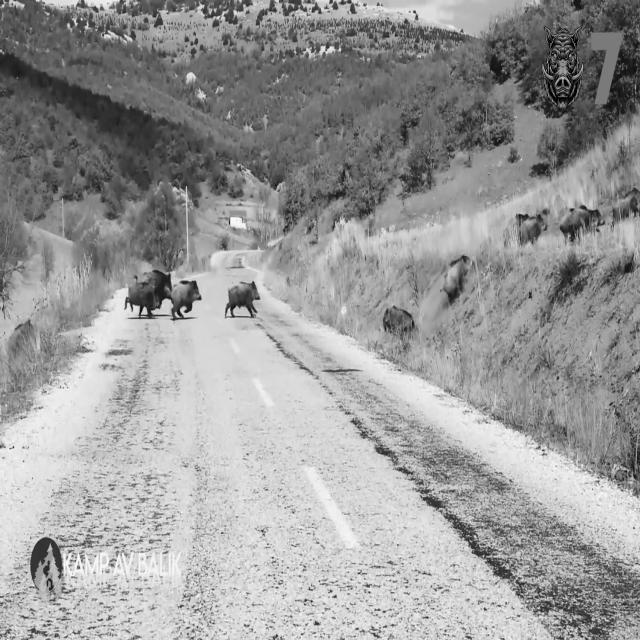boar: (124, 269, 172, 317), (128, 268, 171, 309), (561, 204, 603, 239), (443, 254, 471, 303), (225, 280, 259, 316), (171, 280, 201, 319), (383, 305, 416, 332), (614, 187, 640, 220), (6, 319, 32, 351), (520, 215, 544, 243)
